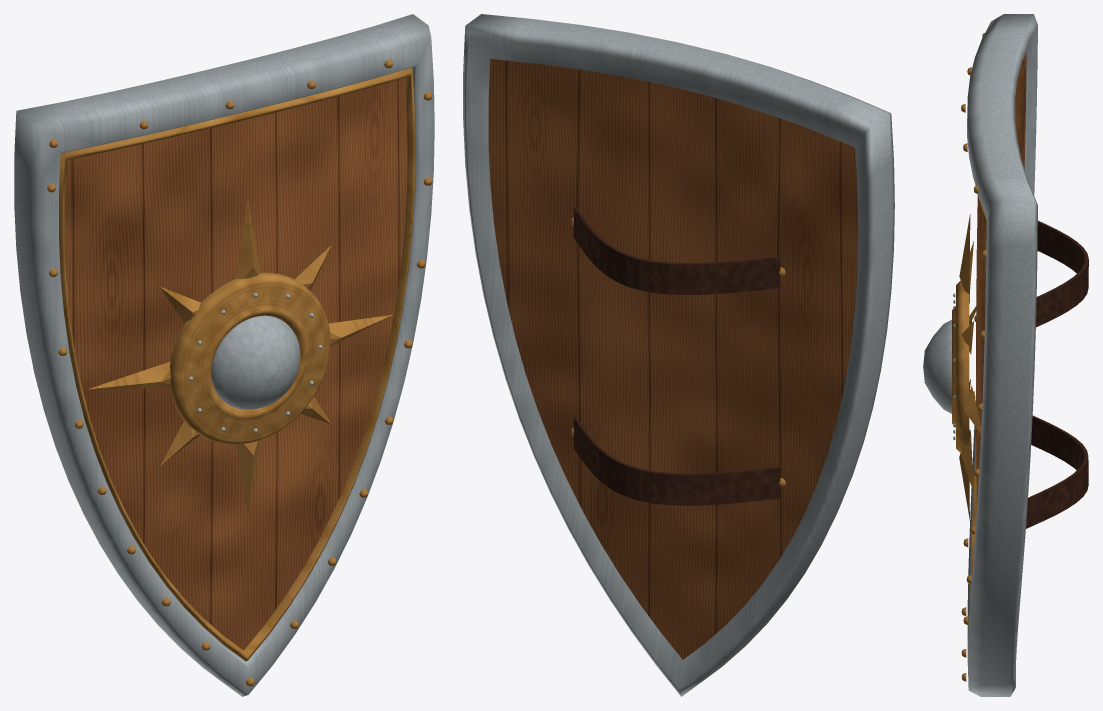
File: escudo-del-alba.glb
3 views of the same model, side by side, from view 1: azimuth 30°, elevation 25°; view 2: azimuth 150°, elevation 25°; view 3: azimuth 270°, elevation 25° (orthographic). The views are drawn at different scales.
Visible parts, largest first — view 1: Escudo del Alba; view 2: Escudo del Alba; view 3: Escudo del Alba.
Part boxes in pixels (x1,y1,x2,y2): Escudo del Alba: (14,14,434,696); Escudo del Alba: (463,14,894,696); Escudo del Alba: (923,14,1088,696).
Bounding box in the file's own units: 0.7596 × 1.12 × 0.2823.
4 materials, 4 textured.
